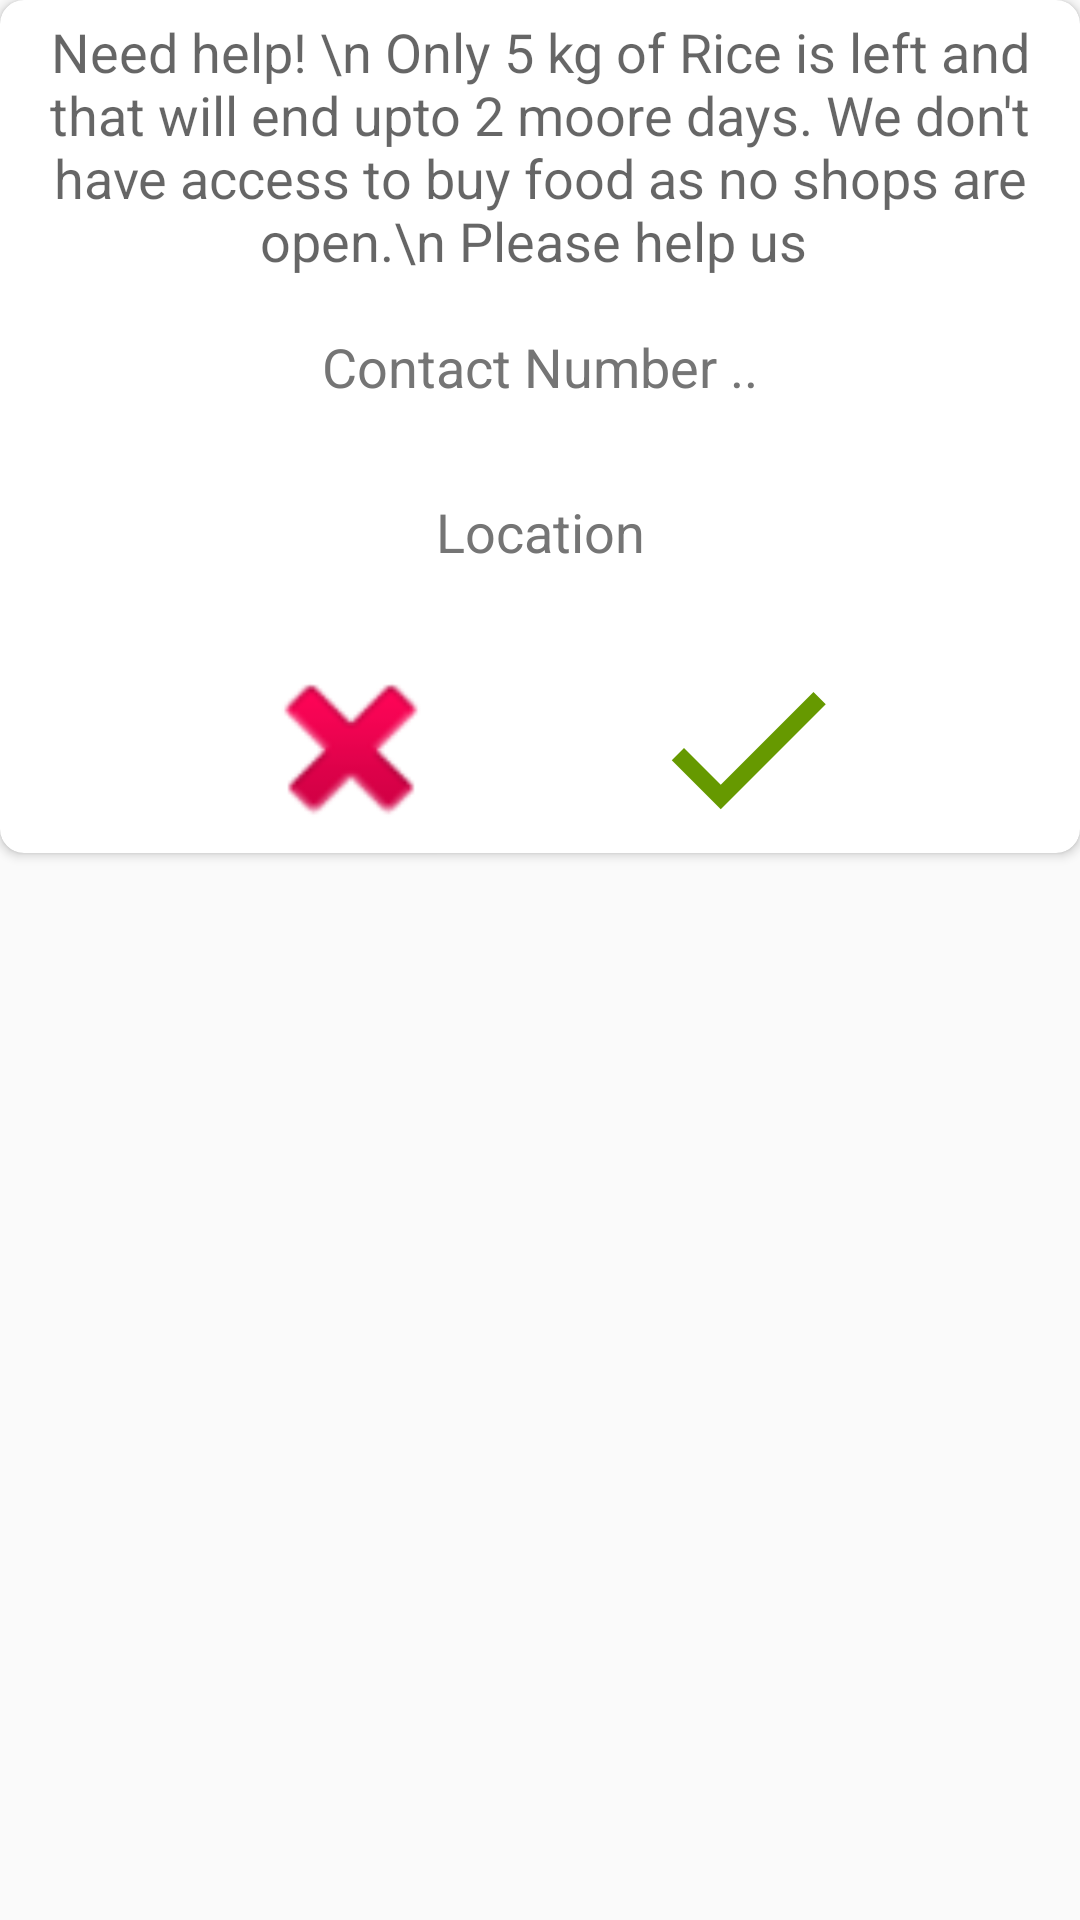

Where icons sit on this 1080px×1920px app screen, as (x1, y1, x2, y2):
delete: (284, 684, 418, 814)
done: (672, 692, 826, 809)
